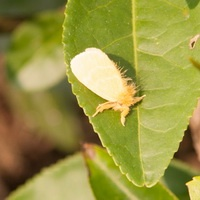insect: (70, 48, 144, 125)
